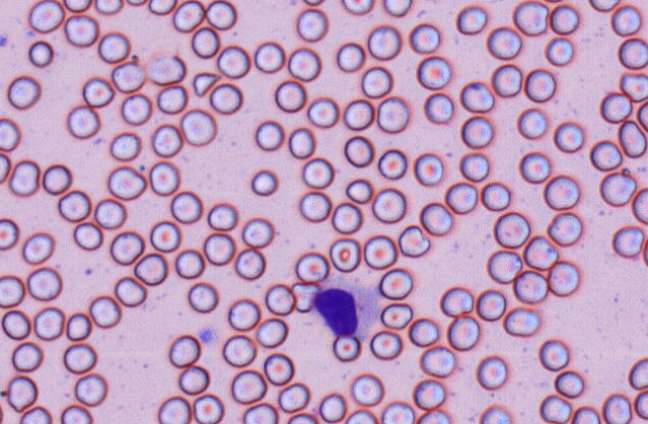MONO: (313, 274, 377, 339)
PLT: (199, 328, 217, 345), (0, 34, 9, 48), (199, 328, 202, 330)
RBC: (179, 108, 216, 146), (493, 211, 530, 248), (107, 165, 146, 200), (543, 174, 579, 210), (599, 171, 636, 206), (230, 369, 266, 404), (371, 187, 406, 223), (523, 235, 558, 270), (513, 0, 548, 35), (547, 211, 582, 246), (487, 249, 522, 283), (110, 230, 144, 265), (513, 269, 548, 303), (28, 0, 64, 33), (376, 96, 408, 133), (147, 54, 185, 85), (287, 47, 321, 81), (216, 44, 250, 78), (416, 55, 450, 89), (486, 26, 521, 59), (26, 267, 61, 300), (419, 345, 455, 377), (547, 260, 579, 296), (133, 252, 167, 285), (7, 75, 40, 109), (64, 14, 98, 47), (367, 25, 400, 59), (363, 235, 396, 269), (447, 315, 479, 350), (7, 375, 37, 412), (9, 159, 39, 196), (74, 373, 107, 406), (222, 334, 255, 367), (419, 202, 452, 235), (460, 115, 493, 148), (57, 189, 91, 221), (524, 68, 556, 102), (329, 237, 360, 272), (618, 119, 646, 157), (203, 232, 235, 265), (351, 373, 383, 406), (209, 82, 242, 114), (89, 295, 121, 328), (274, 79, 306, 112), (227, 298, 259, 331), (170, 190, 202, 223), (445, 181, 478, 213), (67, 105, 99, 138), (476, 355, 507, 389), (33, 306, 64, 340), (491, 63, 522, 97), (460, 81, 494, 112), (111, 62, 145, 93), (295, 251, 329, 282), (378, 268, 412, 299), (503, 307, 539, 336), (612, 225, 644, 257), (172, 0, 204, 32), (590, 139, 622, 171), (600, 91, 632, 123), (98, 31, 130, 63), (263, 352, 294, 385), (255, 317, 288, 348), (169, 334, 200, 367), (296, 8, 327, 41), (538, 338, 569, 371), (151, 124, 182, 157), (149, 161, 179, 195), (413, 378, 445, 409), (22, 232, 53, 264), (149, 220, 180, 252), (361, 66, 392, 98), (234, 248, 265, 280), (331, 201, 362, 233), (301, 157, 333, 188), (299, 191, 331, 222), (94, 198, 126, 229), (519, 151, 550, 183), (241, 217, 273, 248), (254, 41, 285, 73), (63, 343, 96, 373), (440, 286, 473, 316), (476, 288, 506, 321), (413, 152, 443, 185), (11, 341, 42, 372), (343, 99, 374, 130), (553, 121, 584, 152), (114, 276, 146, 306), (265, 283, 295, 315), (82, 77, 114, 107), (306, 97, 338, 127), (408, 23, 440, 53), (121, 93, 151, 125), (611, 4, 641, 36), (109, 131, 141, 161), (369, 330, 402, 359), (192, 393, 223, 423), (278, 382, 309, 412), (187, 282, 218, 312), (42, 163, 72, 194), (517, 108, 547, 139), (377, 148, 407, 179), (539, 394, 571, 423), (344, 135, 373, 167), (618, 37, 647, 69), (157, 396, 191, 423), (174, 249, 204, 279), (602, 393, 632, 423), (549, 4, 579, 34), (480, 181, 510, 211), (178, 365, 209, 394), (205, 0, 236, 29), (408, 317, 439, 346), (456, 5, 487, 34), (424, 92, 453, 123), (191, 26, 219, 58), (1, 309, 30, 339), (255, 120, 284, 150), (157, 85, 187, 114), (459, 152, 489, 181), (380, 302, 412, 329), (73, 221, 102, 250), (336, 42, 365, 71), (207, 202, 237, 230), (554, 370, 584, 398), (318, 392, 346, 422), (545, 36, 573, 66), (288, 127, 315, 158), (0, 274, 25, 307), (620, 72, 647, 102), (242, 402, 278, 423), (332, 334, 360, 361), (380, 401, 414, 423), (65, 312, 91, 340), (251, 169, 277, 196), (0, 117, 20, 151), (345, 178, 372, 203), (28, 40, 53, 67), (628, 357, 647, 390), (60, 404, 92, 423), (0, 217, 18, 250), (19, 405, 51, 423), (479, 405, 510, 423), (632, 187, 647, 224), (344, 408, 377, 423), (571, 406, 600, 423), (416, 409, 450, 423), (341, 0, 373, 14), (383, 0, 411, 16), (148, 0, 176, 15), (94, 0, 122, 14), (634, 390, 647, 419), (286, 412, 318, 423), (588, 0, 619, 11), (63, 0, 91, 12), (0, 152, 10, 183), (637, 100, 647, 130), (642, 236, 648, 266), (302, 0, 324, 6), (125, 0, 147, 5), (543, 0, 564, 3)
Schistocyte: (400, 226, 430, 259), (292, 284, 319, 311), (192, 72, 221, 97)
